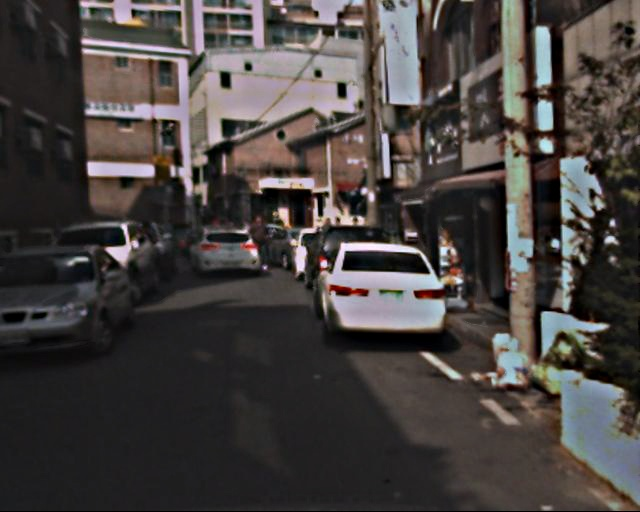person: (247, 212, 272, 276)
